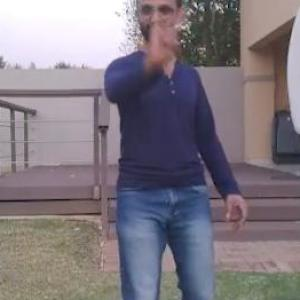takeoff-hand: (138, 4, 186, 66)
